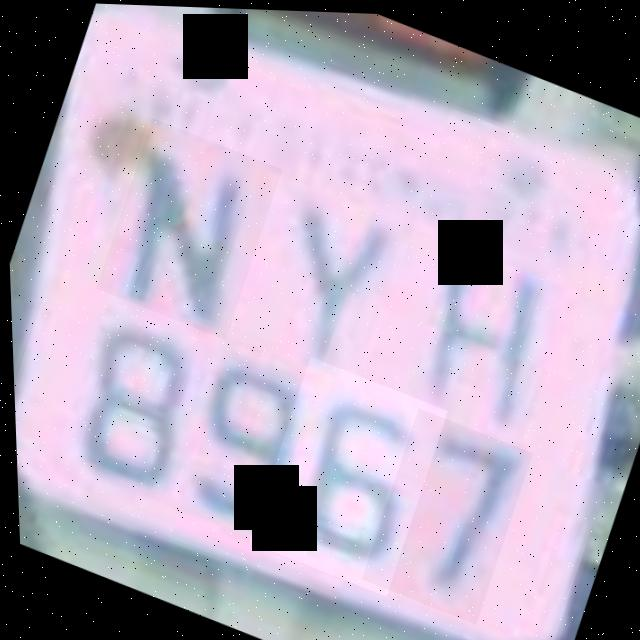6: (239, 353, 450, 596)
7: (352, 403, 535, 623)
8: (21, 270, 228, 502)
9: (133, 311, 343, 551)
N: (89, 115, 286, 340)
Y: (237, 164, 425, 383)
